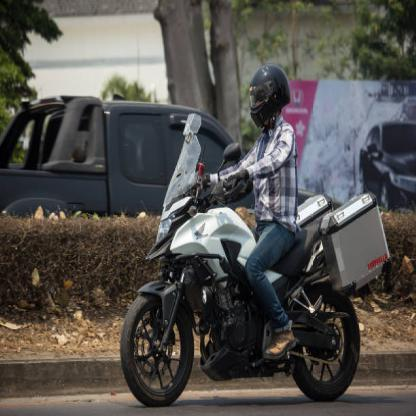Motorcycle: (117, 122, 385, 405)
